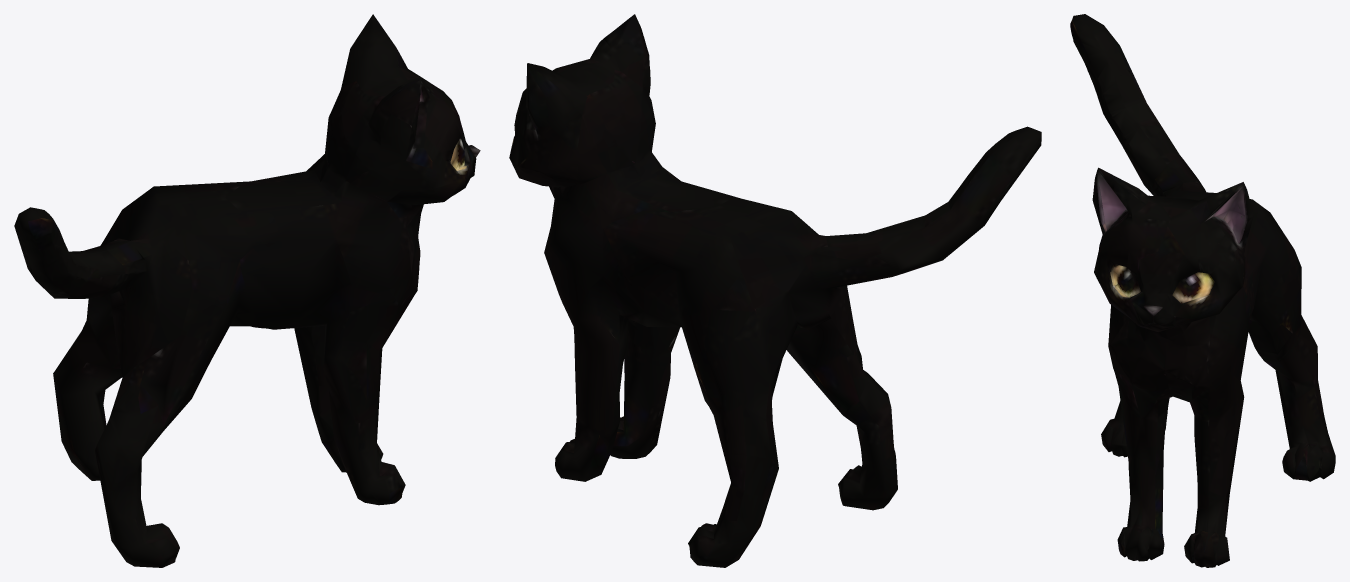
File: TREADPAW-lo.glb
3 renders of one model, left to right at view 1: azimuth 30°, elevation 25°; view 2: azimuth 150°, elevation 25°; view 3: azimuth 270°, elevation 25°, orthographic. The views are drawn at different scales.
Parts seen in each view (by area): view 1: material; view 2: material; view 3: material.
Boxes of the visible parts, left/top/right/bottom form: material: left=14, top=14, right=480, bottom=567; material: left=509, top=14, right=1041, bottom=567; material: left=1070, top=14, right=1335, bottom=567.
Size of the model in its own units: 1.21 by 0.9995 by 0.6095.
Materials: 1 (1 with a texture image).
